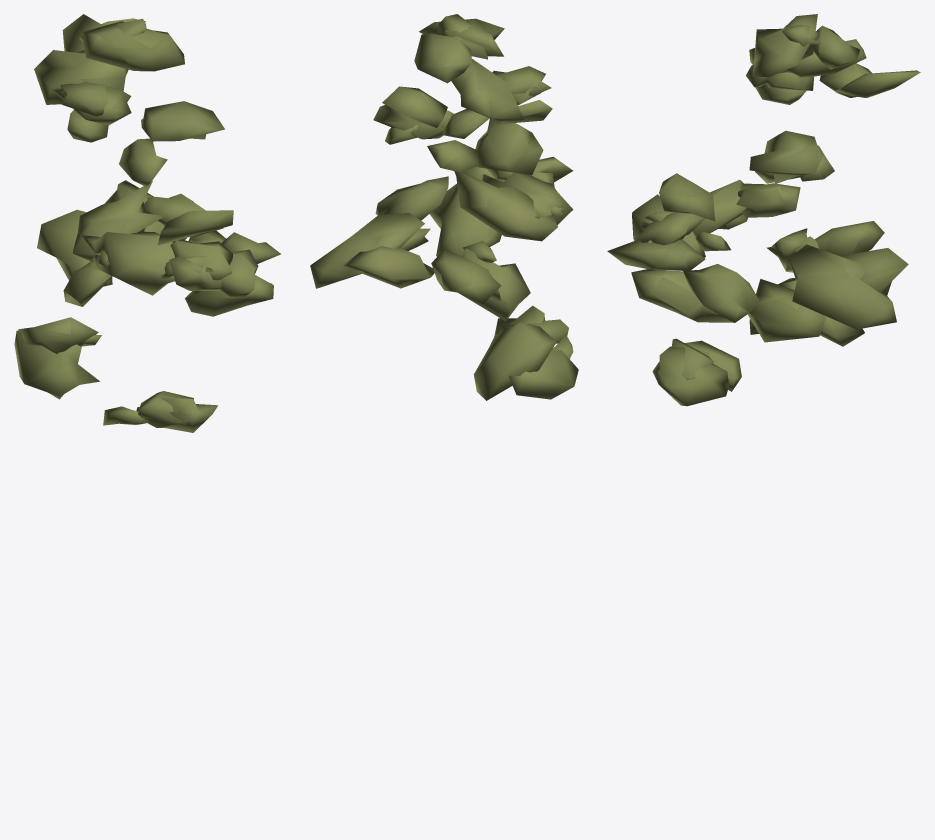
The model's file is baum-buche-2-fern.glb.
The picture shows the model from 3 angles, left to right: view 1: azimuth 30°, elevation 25°; view 2: azimuth 150°, elevation 25°; view 3: azimuth 270°, elevation 25°; orthographic projection. The views are drawn at different scales.
Visible parts, largest first — view 1: Baum_Stamm.001; view 2: Baum_Stamm.001; view 3: Baum_Stamm.001.
Boxes of the visible parts, bbox=[...] form: Baum_Stamm.001: bbox=[14, 14, 281, 432]; Baum_Stamm.001: bbox=[310, 14, 578, 400]; Baum_Stamm.001: bbox=[607, 14, 920, 406].
Bounding box in the file's own units: 9.22 × 31.31 × 11.14.
